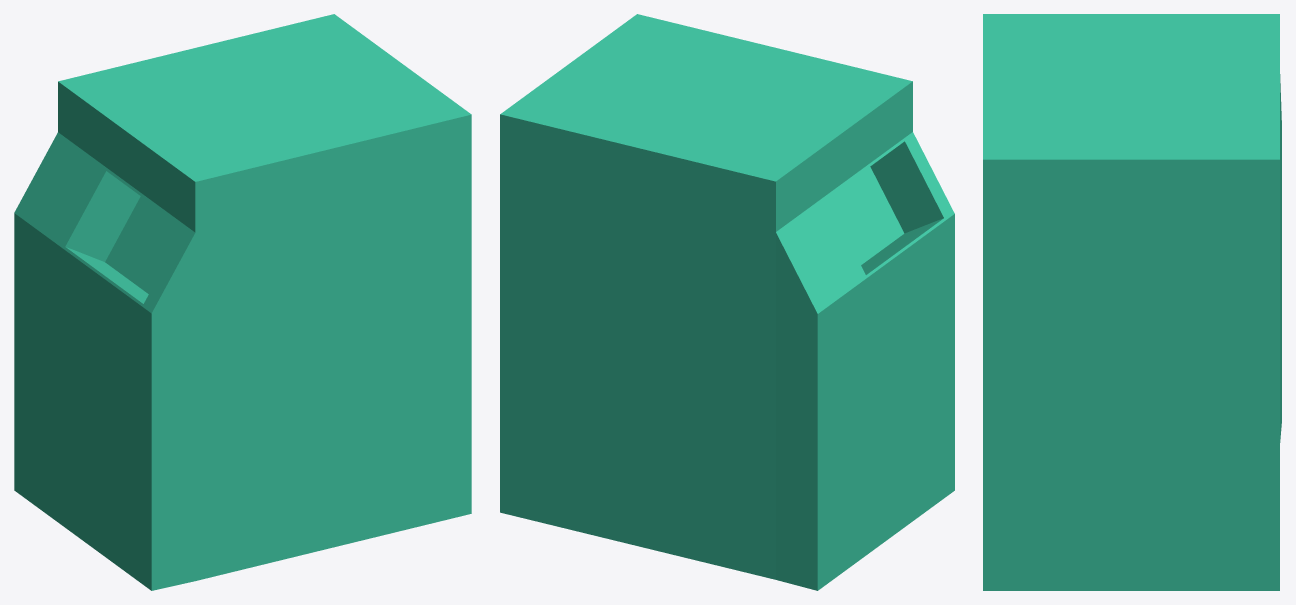
The model's file is D_Machine_Base.fbx.
3 renders of one model, left to right at view 1: azimuth 30°, elevation 25°; view 2: azimuth 150°, elevation 25°; view 3: azimuth 270°, elevation 25°, orthographic. The views are drawn at different scales.
Parts seen in each view (by area): view 1: D_Machine_Base; view 2: D_Machine_Base; view 3: D_Machine_Base.
Part boxes in pixels (x1,y1,x2,y2): D_Machine_Base: (14,14,471,590); D_Machine_Base: (500,14,954,590); D_Machine_Base: (983,14,1281,590).
Bounding box in the file's own units: 96.58 × 115 × 72.47.
